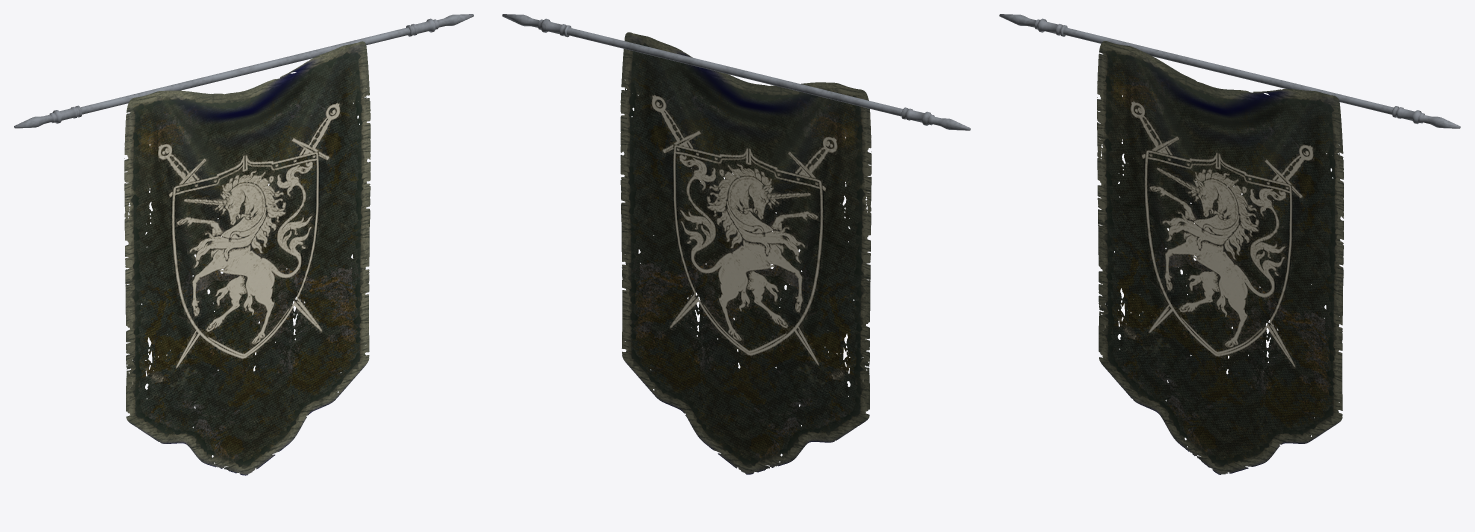
The model's file is Flag_D.fbx.
3 views of the same model, side by side, from view 1: azimuth 30°, elevation 25°; view 2: azimuth 150°, elevation 25°; view 3: azimuth 330°, elevation 25° (orthographic).
Visible parts, largest first — view 1: Flag_D_low, FlagFrame004_low, FlagFrame005_low; view 2: Flag_D_low, FlagFrame004_low, FlagFrame005_low; view 3: Flag_D_low, FlagFrame004_low, FlagFrame005_low.
Boxes of the visible parts, box(x1,y1,x2,y2) form: Flag_D_low: box(124, 41, 370, 475); FlagFrame004_low: box(80, 27, 410, 114); FlagFrame005_low: box(14, 14, 473, 128); Flag_D_low: box(620, 32, 871, 474); FlagFrame004_low: box(567, 27, 903, 116); FlagFrame005_low: box(502, 14, 970, 130); Flag_D_low: box(1097, 41, 1343, 474); FlagFrame004_low: box(1063, 27, 1393, 114); FlagFrame005_low: box(999, 14, 1460, 128).
Bounding box in the file's own units: 1.9 × 1.67 × 0.0709.
